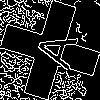A: (25, 25, 79, 71)
